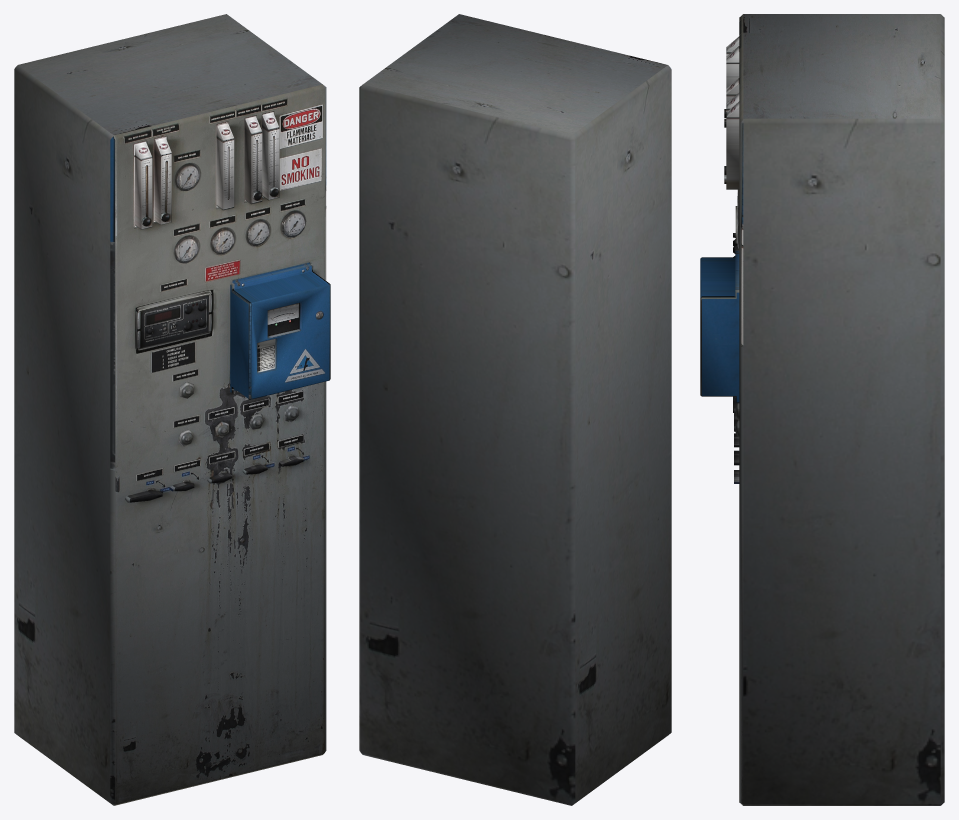
File: Electro.fbx
The picture shows the model from 3 angles, left to right: view 1: azimuth 30°, elevation 25°; view 2: azimuth 150°, elevation 25°; view 3: azimuth 270°, elevation 25°; orthographic projection. The views are drawn at different scales.
Parts seen in each view (by area): view 1: Mesh; view 2: Mesh; view 3: Mesh.
Part boxes in pixels (x1,y1,x2,y2): Mesh: (14,14,330,805); Mesh: (359,14,671,805); Mesh: (700,14,944,805).
Size of the model in its own units: 72.46 by 215 by 69.31.
